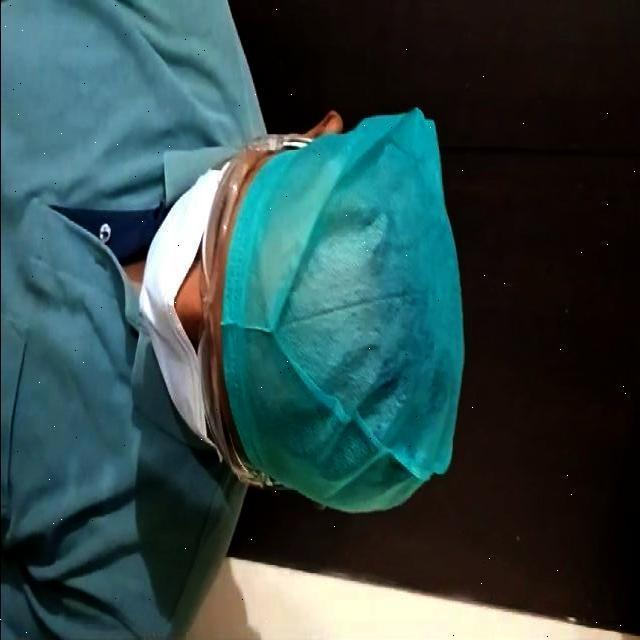gloves: (238, 92, 466, 516)
mask: (138, 193, 255, 424)
